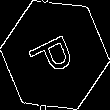P_NE: (27, 28, 83, 82)
